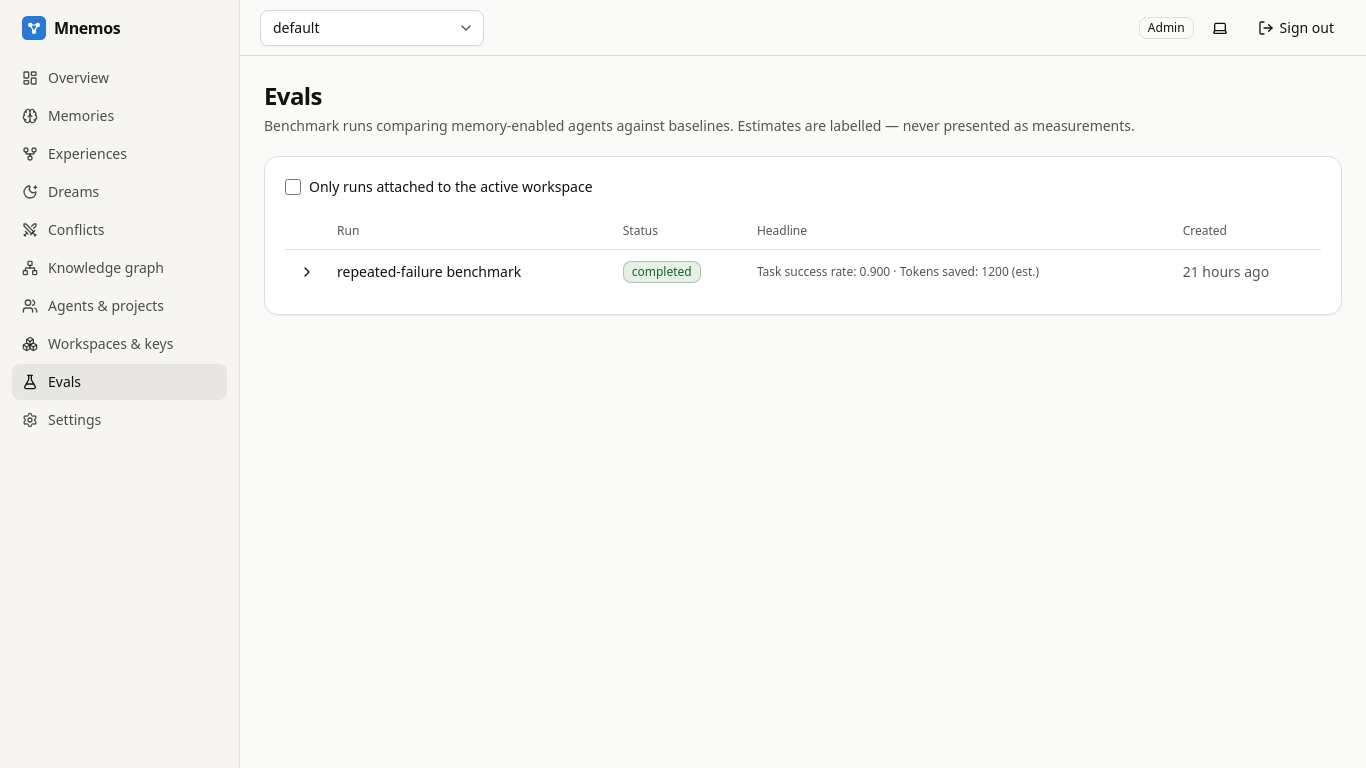
Evals › labels measured vs estimated metrics and expands the full result
The width and height of the screenshot is (1366, 768).
Check: the row with test id "eval-row" shows "Tokens saved: 1200 (est.)", box [757,262,1039,280]
Click the button with test id "eval-row-toggle": {"x": 307, "y": 272} [293,258,321,286]
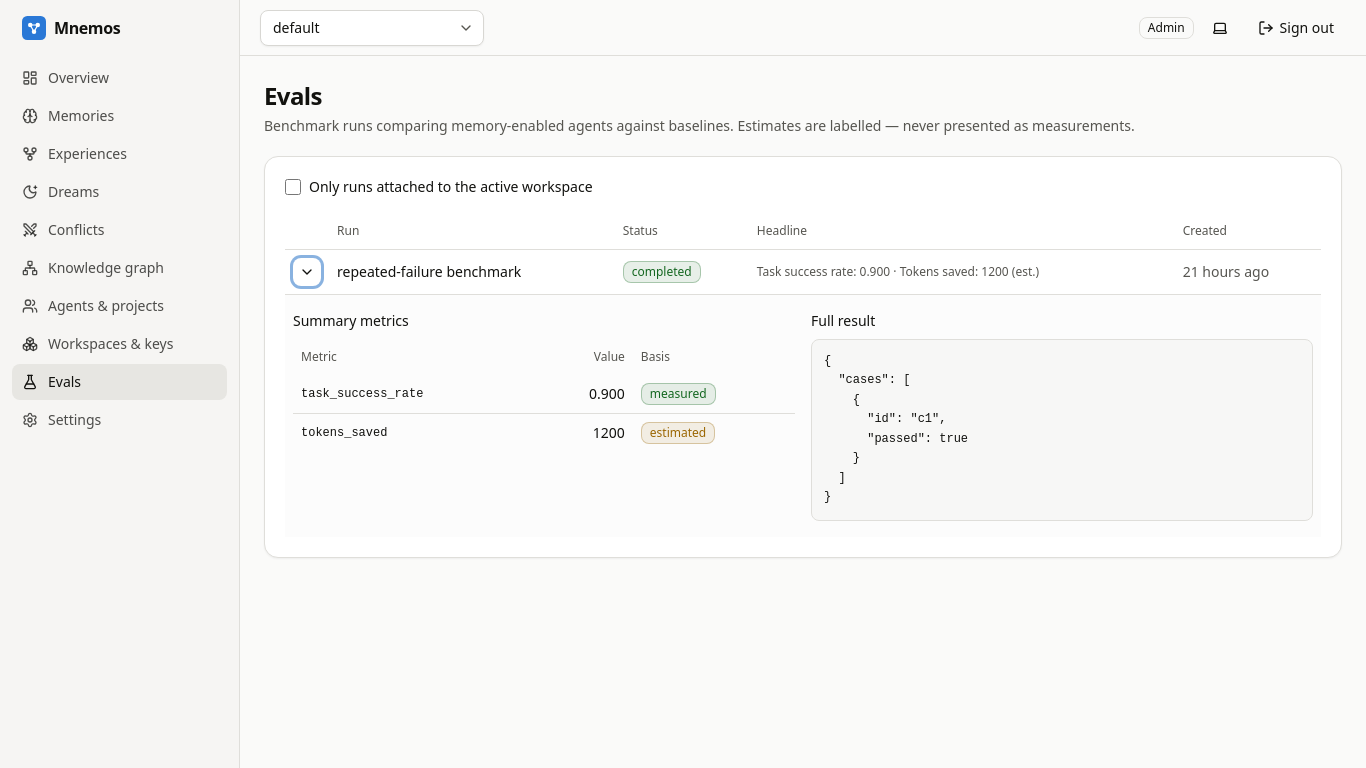
Check: the text with test id "eval-result-json" shows "\"passed\": true", box [824,354,968,504]
